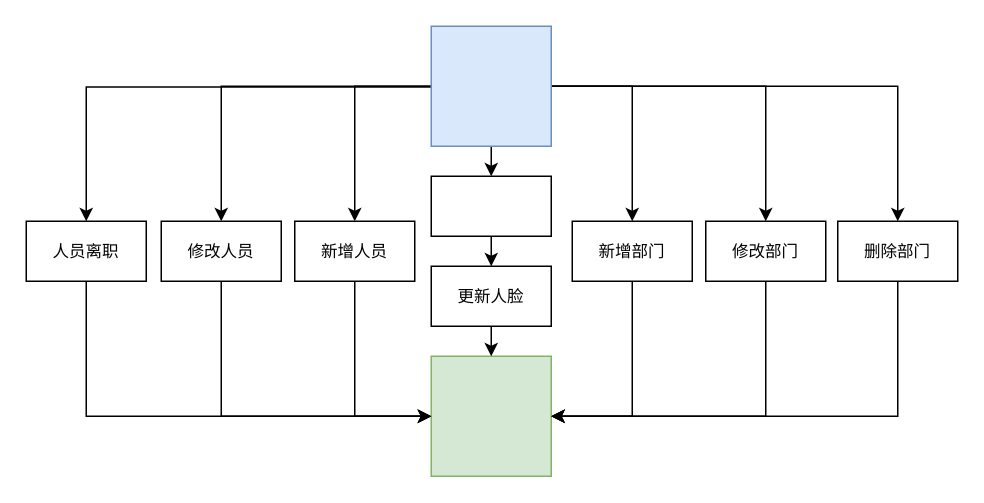
This 984x503 diagram has some shape labels left out. Each missing label, with the box of its shape:
OA系统: (430, 25, 551, 146)
获取人脸: (430, 175, 551, 236)
食堂消费系统: (430, 355, 551, 476)
